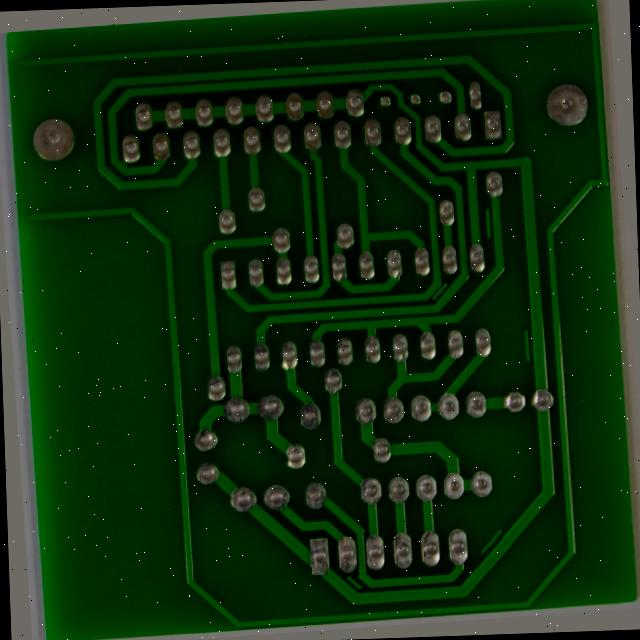spurious_copper: (468, 537, 511, 569), (522, 334, 544, 375), (489, 205, 508, 247), (335, 579, 360, 605), (433, 284, 458, 309)
